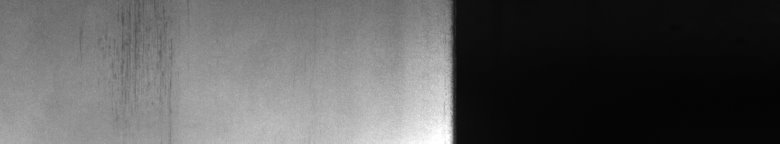ka: (114, 13, 171, 88)
